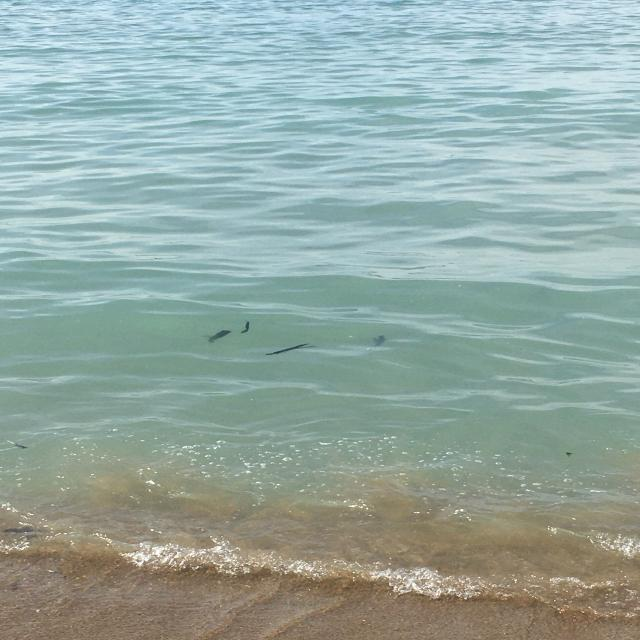Plastic: (260, 340, 320, 357), (205, 327, 232, 344), (369, 332, 389, 348), (238, 318, 254, 336)
